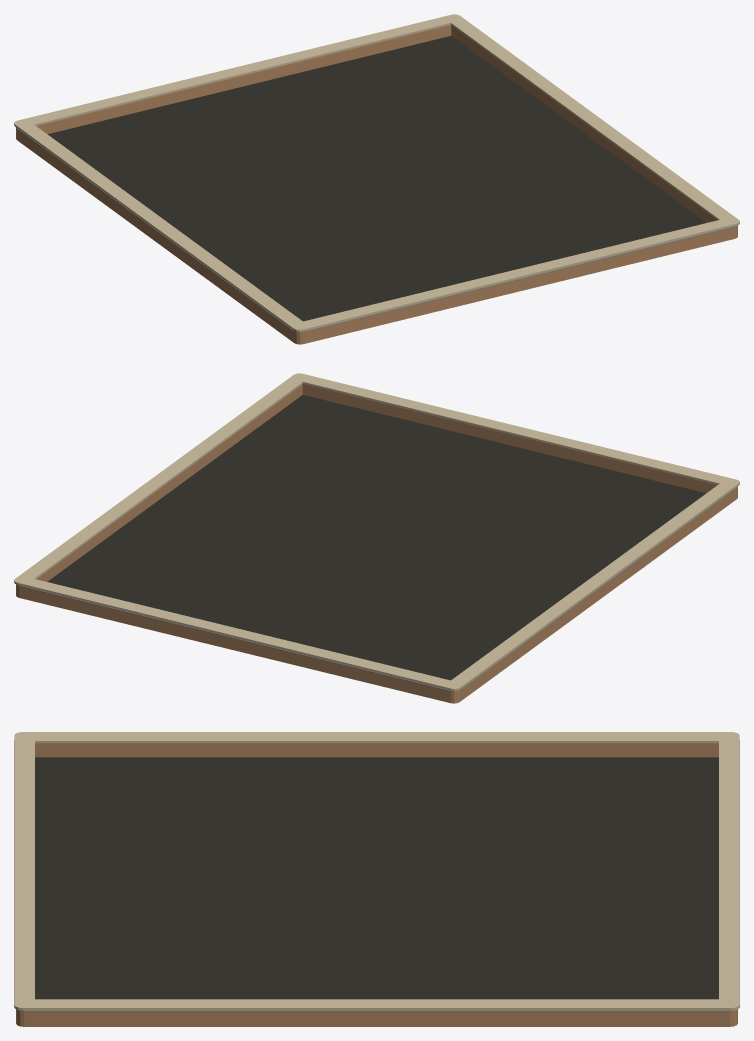
The model's file is SM_Homes_H03_Roof_LOD1.fbx.
3 views of the same model, one above another, from view 1: azimuth 30°, elevation 25°; view 2: azimuth 150°, elevation 25°; view 3: azimuth 270°, elevation 25° (orthographic). The views are drawn at different scales.
Visible parts, largest first — view 1: SM_Homes_H03_Roof_LOD1; view 2: SM_Homes_H03_Roof_LOD1; view 3: SM_Homes_H03_Roof_LOD1.
Part boxes in pixels (x1,y1,x2,y2): SM_Homes_H03_Roof_LOD1: (14,14,739,344); SM_Homes_H03_Roof_LOD1: (14,373,739,703); SM_Homes_H03_Roof_LOD1: (14,732,739,1026).
Size of the model in its own units: 9.06 by 10.06 by 0.34.
